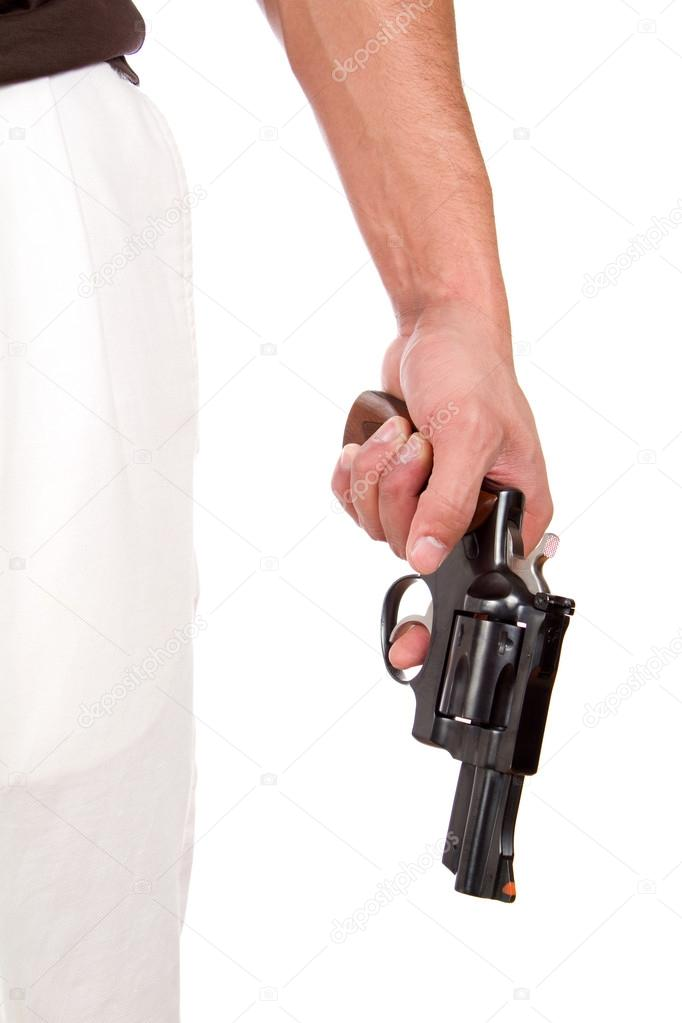Revolver: (310, 341, 600, 938)
